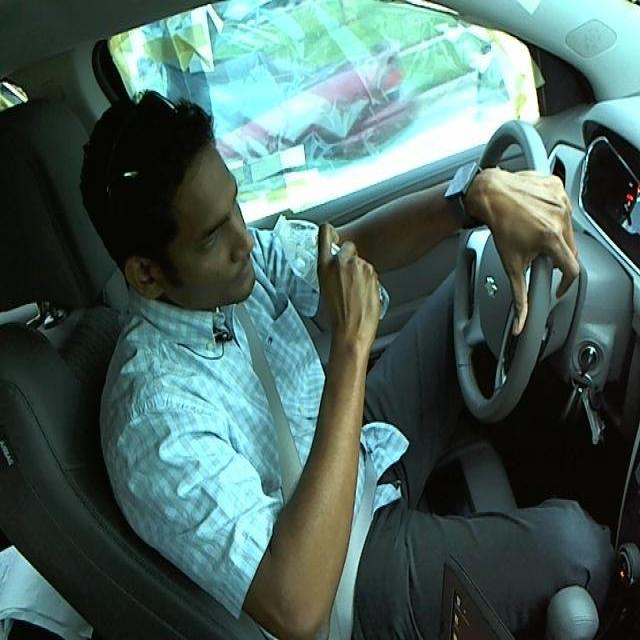drinking: (266, 204, 393, 338)
